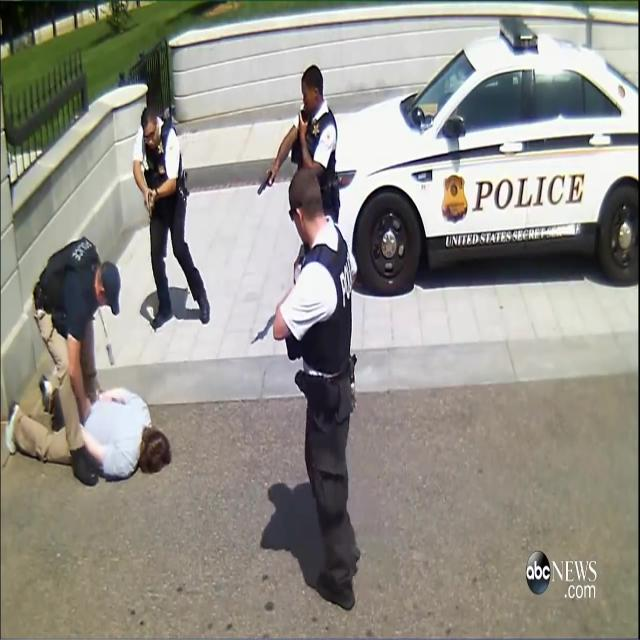Weapon: (238, 158, 282, 216), (132, 177, 170, 233)
